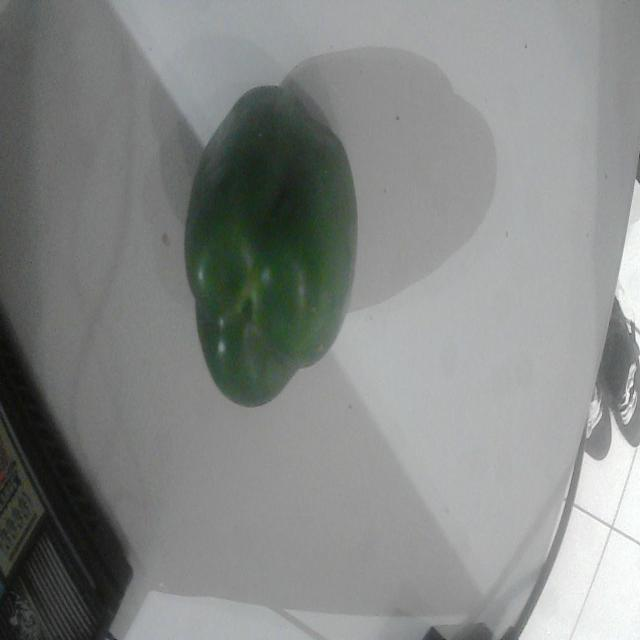Bell Pepper: (185, 86, 357, 406)
